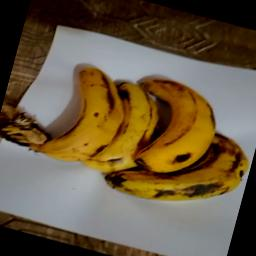Banana Unripe: (19, 49, 256, 223)
